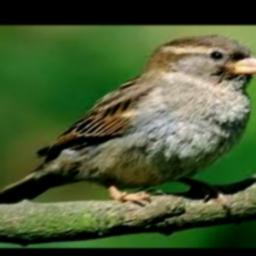Sparrow: (0, 35, 256, 210)
